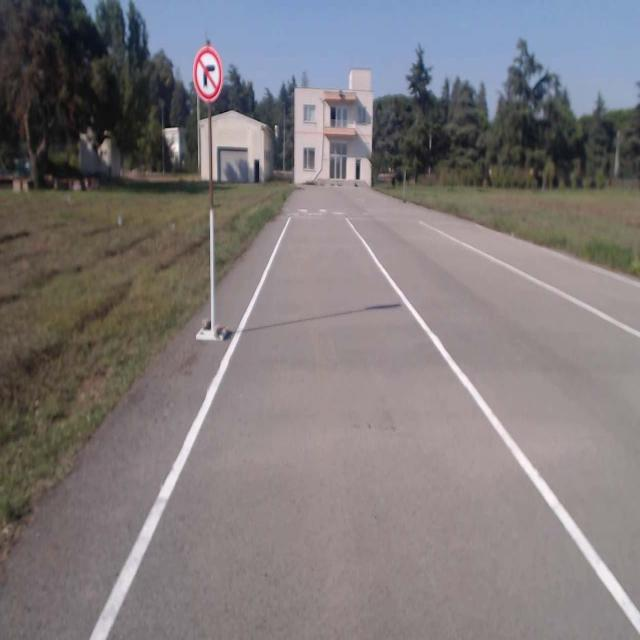sagadonulmez: (194, 45, 222, 103)
